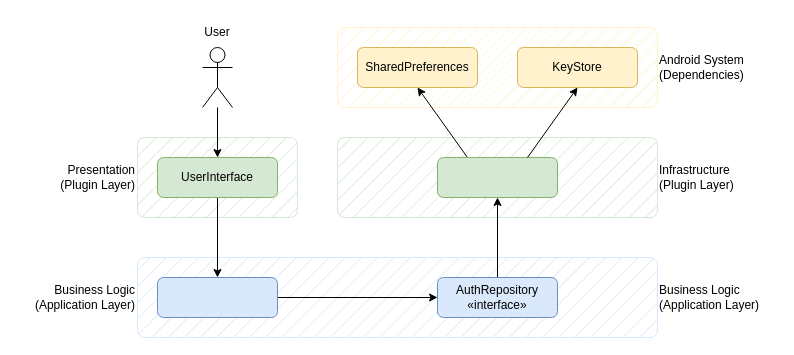
Some shapes in this 794 by 355 pixel diagram are drawn without their labels. Each missing label, with the centre of its shape:
"SharedPreferences- AuthRepository" belongs at [497,177].
"UseCases" belongs at [217,297].
